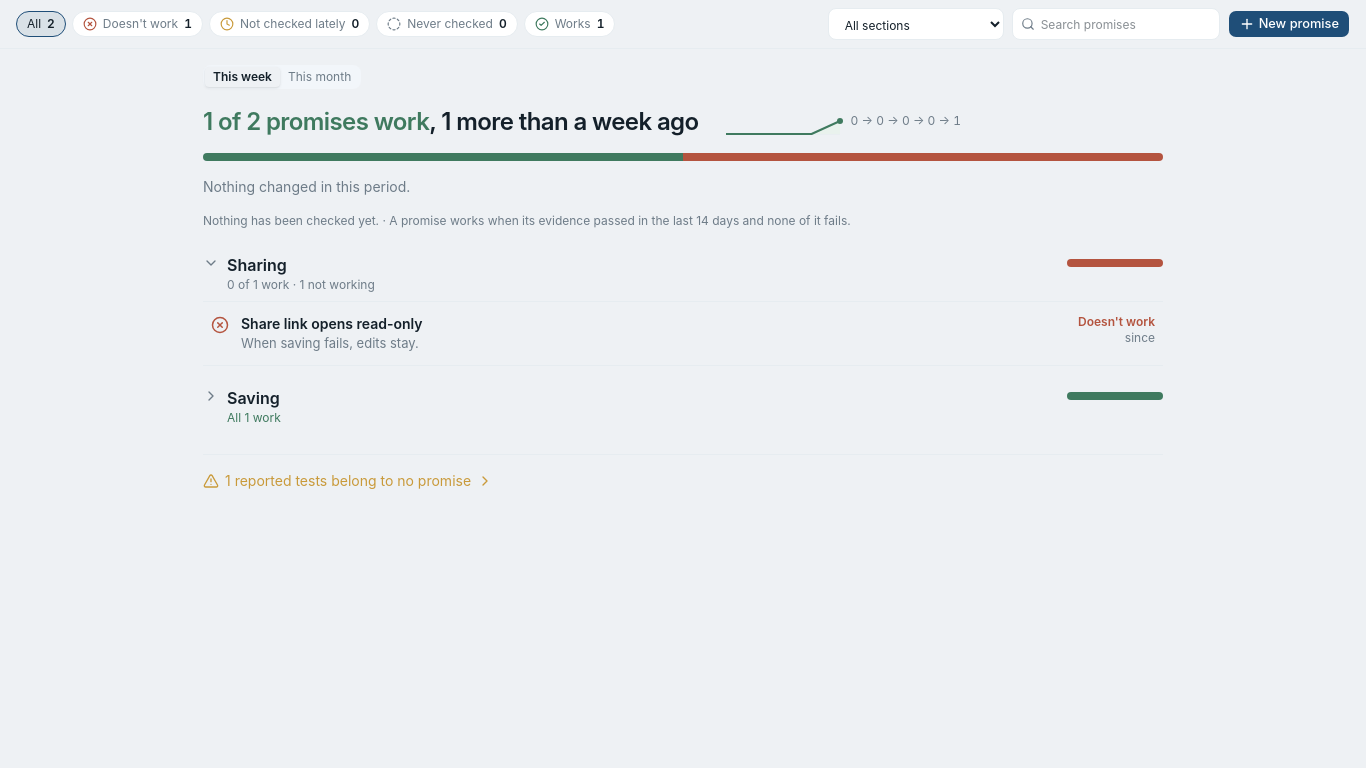
Test: TestsView › reads top down: overall progress, then sections, then behaviors in plain words
This screenshot has width=1366, height=768.
Expected: the text "1 of 2 promises work" is shown, 203,107 -> 429,136
Expected: the text "Nothing has been checked yet." is shown, 203,213 -> 379,228
What coordinates should you click on to do the following:
click the button with aria-label "Show or hide"
I would click on:
 (253, 398)
Its box is 203,386 -> 1163,430.
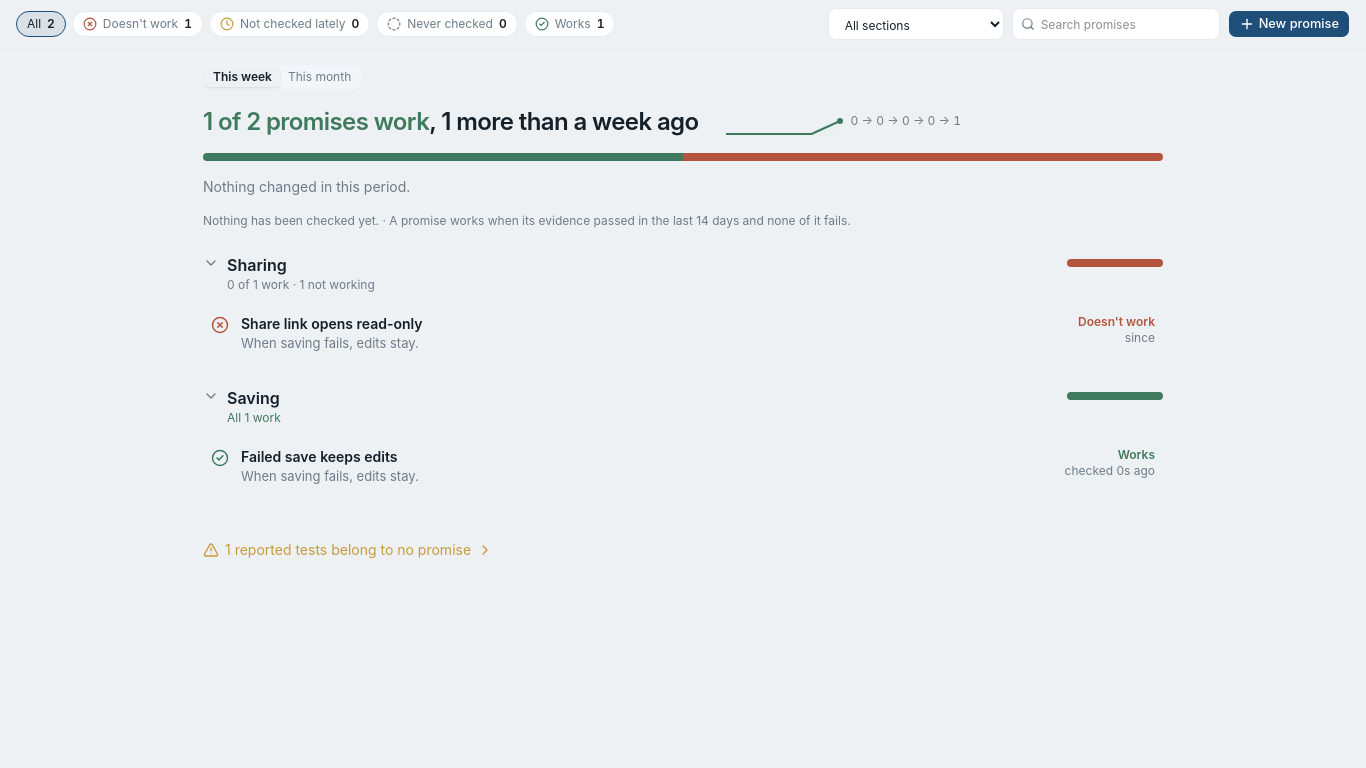
Result: the 2nd text "When saving fails, edits stay." is shown at 241,468 -> 419,484
Result: the text "checked 0s ago" is shown at 1065,463 -> 1155,479
